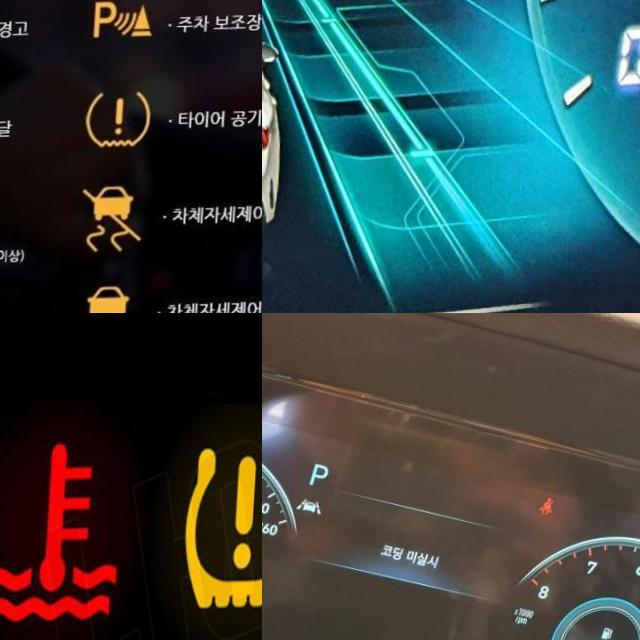Engine cooling system: (0, 439, 126, 623)
LaneCenteringOff: (297, 495, 328, 516)
